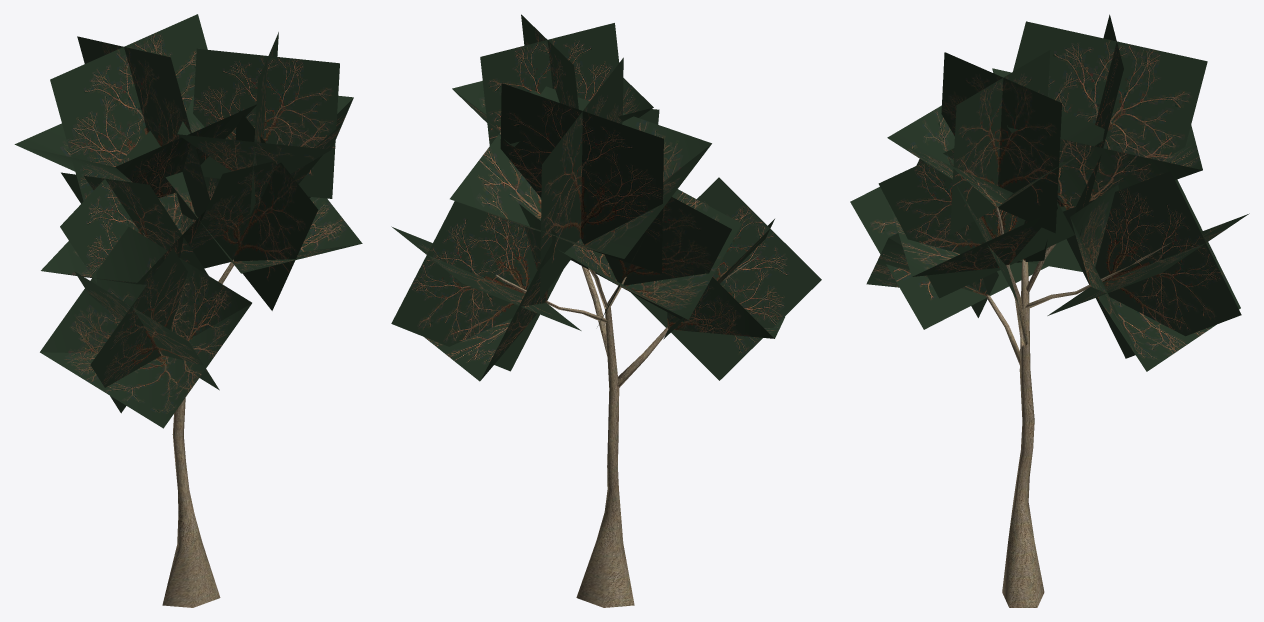
Rendered from decd_mapletreebranches_l0.fbx.
3 views of the same model, side by side, from view 1: azimuth 30°, elevation 25°; view 2: azimuth 150°, elevation 25°; view 3: azimuth 270°, elevation 25° (orthographic). The views are drawn at different scales.
Parts seen in each view (by area): view 1: mesh_node; view 2: mesh_node; view 3: mesh_node.
Part boxes in pixels (bbox=[...]): mesh_node: bbox=[14, 14, 362, 607]; mesh_node: bbox=[391, 14, 821, 607]; mesh_node: bbox=[850, 14, 1249, 607].
Bounding box in the file's own units: 10.07 × 16.47 × 10.56.
